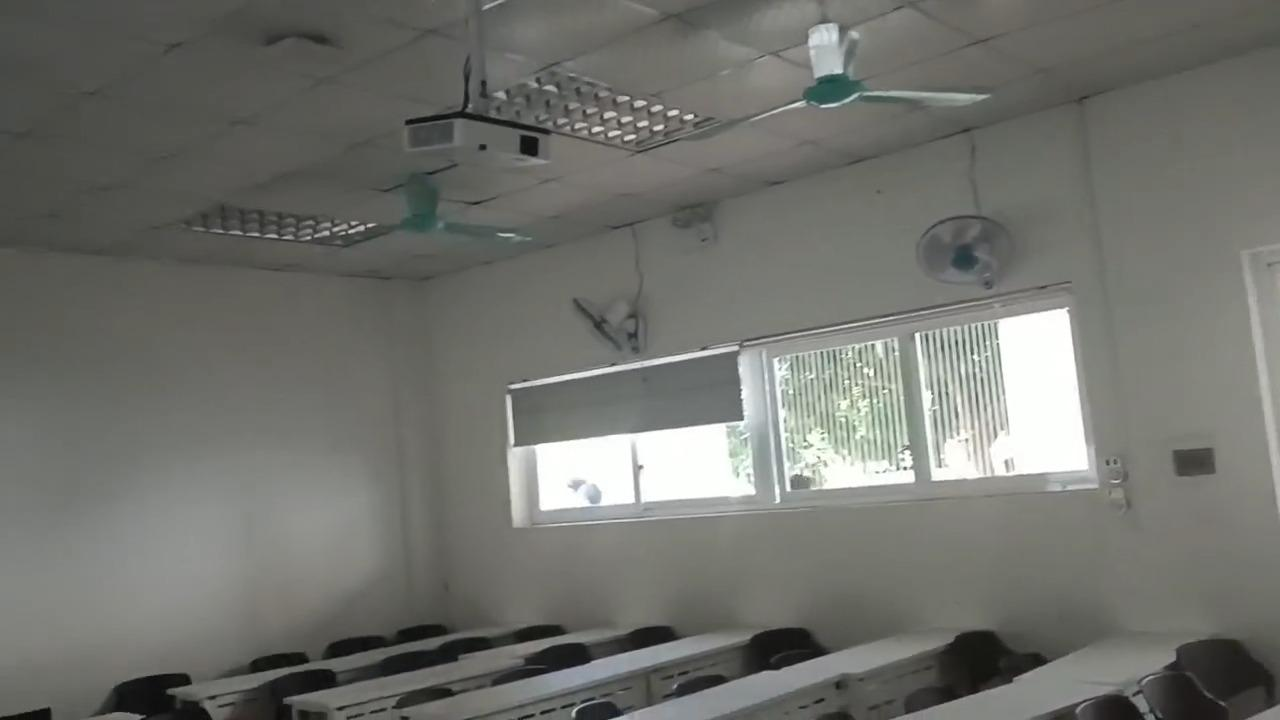chair: (1175, 641, 1272, 717), (952, 633, 1032, 688), (1138, 671, 1227, 719), (113, 675, 190, 719), (266, 667, 338, 699), (751, 627, 817, 661), (1072, 691, 1148, 719), (526, 643, 588, 677), (321, 635, 386, 661), (378, 653, 454, 674), (904, 687, 958, 716), (398, 685, 453, 708), (437, 634, 490, 657), (625, 624, 670, 651), (761, 651, 818, 672), (251, 652, 307, 673), (674, 673, 719, 699), (1000, 654, 1047, 677), (490, 667, 543, 687), (395, 623, 446, 642), (570, 701, 617, 719), (515, 625, 561, 643), (4, 706, 55, 716), (819, 715, 857, 719)
fan: (629, 15, 997, 187), (335, 161, 558, 260), (913, 207, 1021, 294), (561, 278, 651, 361)
project: (398, 114, 552, 179)
table: (397, 665, 643, 718), (287, 658, 521, 708), (176, 646, 387, 697), (620, 670, 830, 719), (883, 678, 1105, 719), (1021, 634, 1202, 684), (587, 627, 761, 672), (795, 630, 959, 676), (375, 620, 533, 656), (475, 626, 625, 661)
